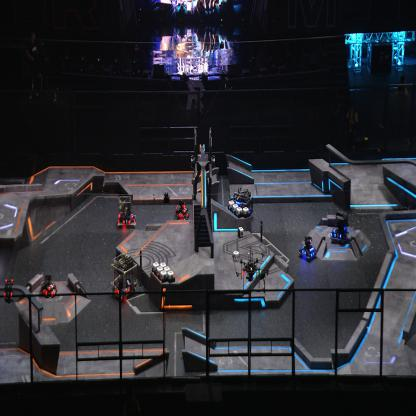car: (110, 252, 138, 301), (233, 186, 254, 220), (116, 193, 135, 230), (330, 209, 348, 242), (297, 234, 317, 262), (39, 273, 58, 298), (173, 199, 190, 220)
